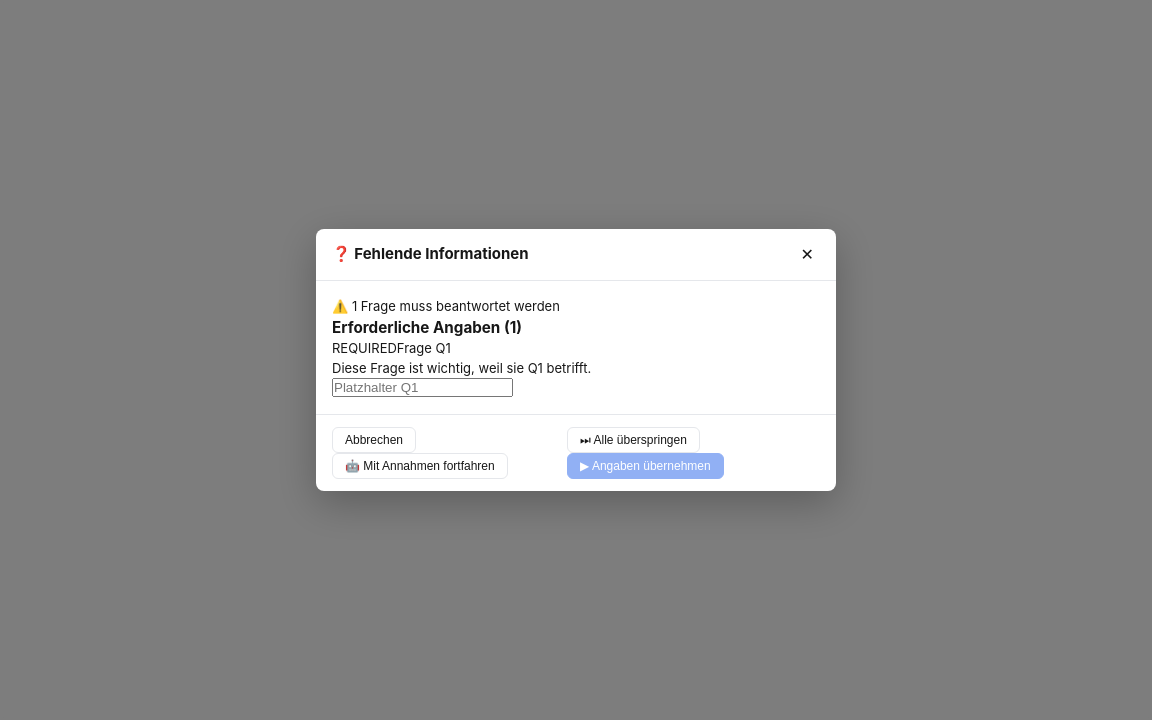
MissingInfoGate — Constraints (#255) › no conflicts when prompt is empty
// Answer the question
In the field with test id "gate-input-Q1": {"x": 422, "y": 388} x1=332 y1=378 x2=513 y2=397, type "test"
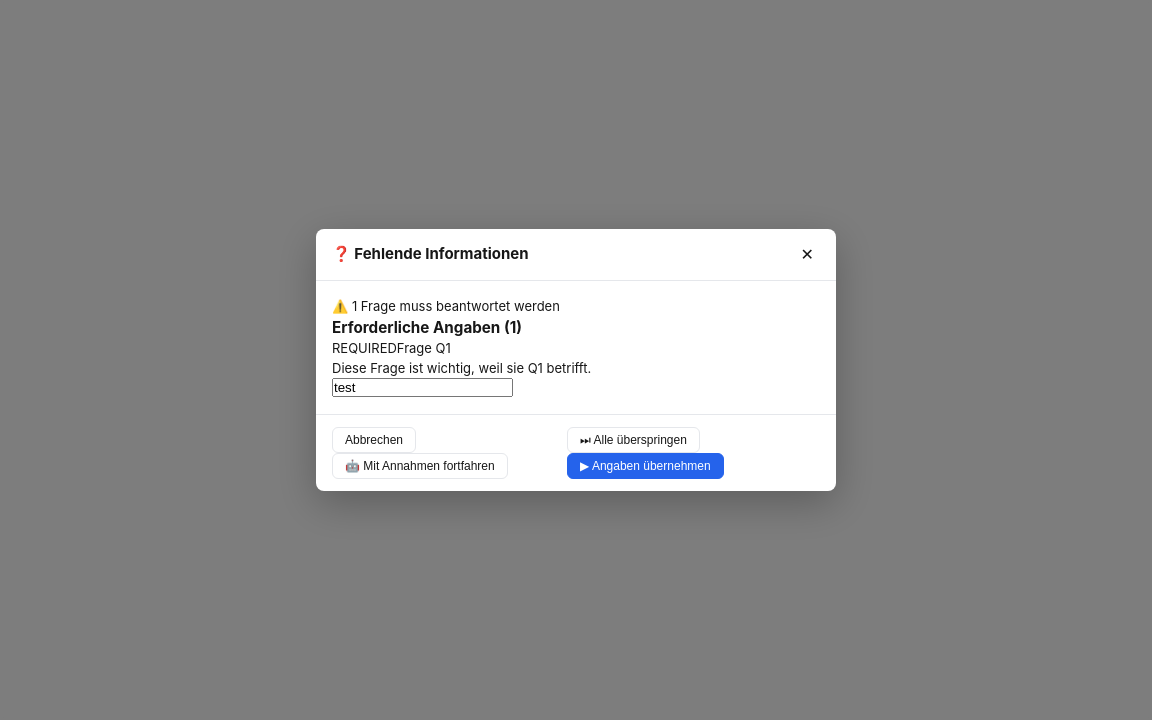
Expected: the button with test id "gate-btn-proceed" is enabled, x1=567 y1=453 x2=724 y2=479
